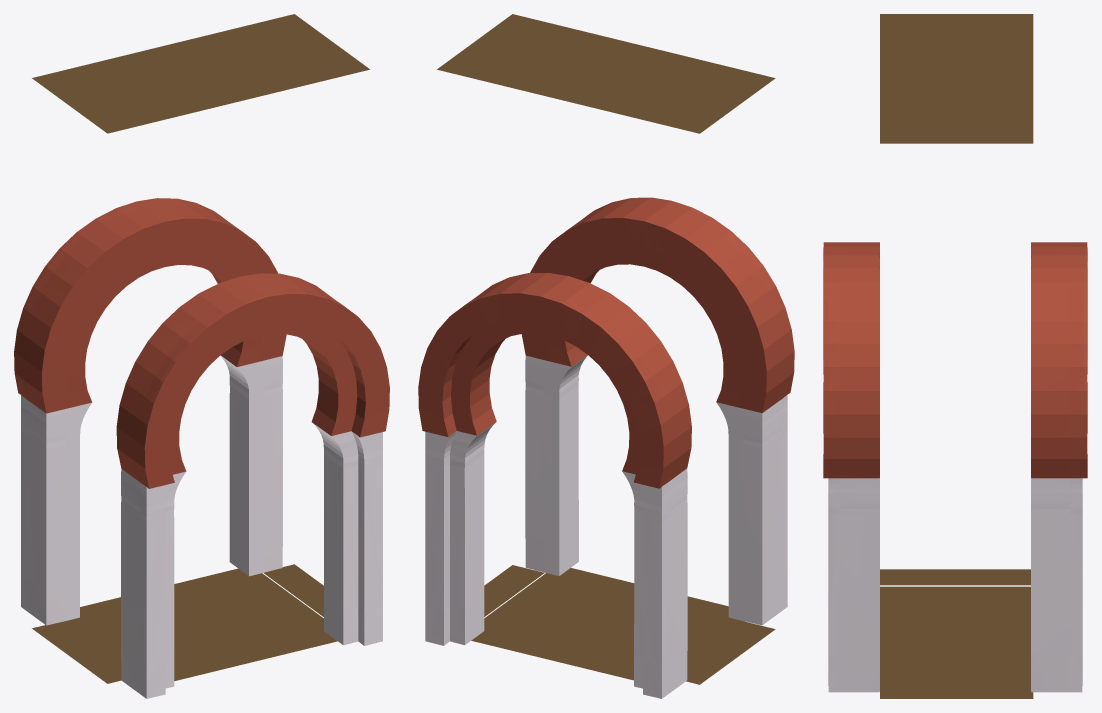
The model's file is Door-Atl.fbx.
3 renders of one model, left to right at view 1: azimuth 30°, elevation 25°; view 2: azimuth 150°, elevation 25°; view 3: azimuth 270°, elevation 25°, orthographic.
Parts seen in each view (by area): view 1: ArcFrame.002, ArcFrame.003, Wall with door v2, HiddenDoor.001; view 2: ArcFrame.003, ArcFrame.002, Wall with door v2, HiddenDoor.001; view 3: Wall with door v2, ArcFrame.002, ArcFrame.003, HiddenDoor.001.
Boxes of the visible parts, <box> form: ArcFrame.002: <box>116,273,389,698</box>; ArcFrame.003: <box>14,198,286,625</box>; Wall with door v2: <box>32,14,369,683</box>; HiddenDoor.001: <box>65,568,337,681</box>; ArcFrame.003: <box>418,273,691,698</box>; ArcFrame.002: <box>521,197,794,625</box>; Wall with door v2: <box>437,14,775,684</box>; HiddenDoor.001: <box>471,568,743,680</box>; Wall with door v2: <box>880,14,1033,698</box>; ArcFrame.002: <box>823,242,879,692</box>; ArcFrame.003: <box>1031,242,1087,692</box>; HiddenDoor.001: <box>880,586,1030,682</box>.
Size of the model in its own units: 200 by 401 by 172.
